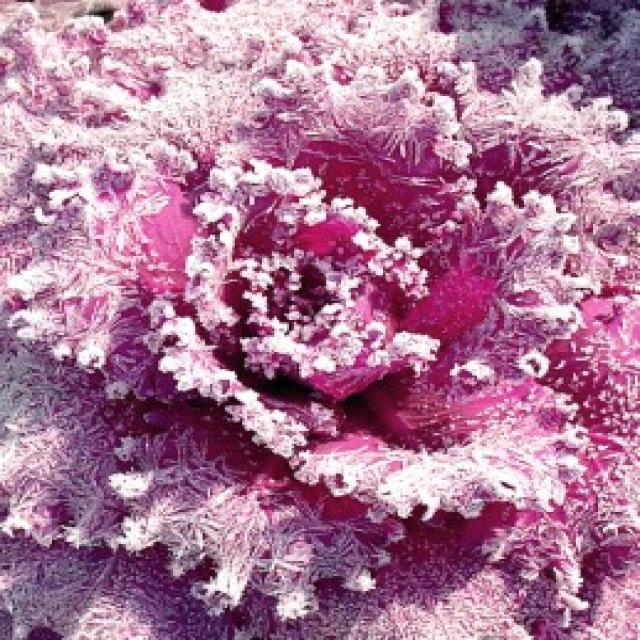Healthy: (1, 1, 639, 639)
